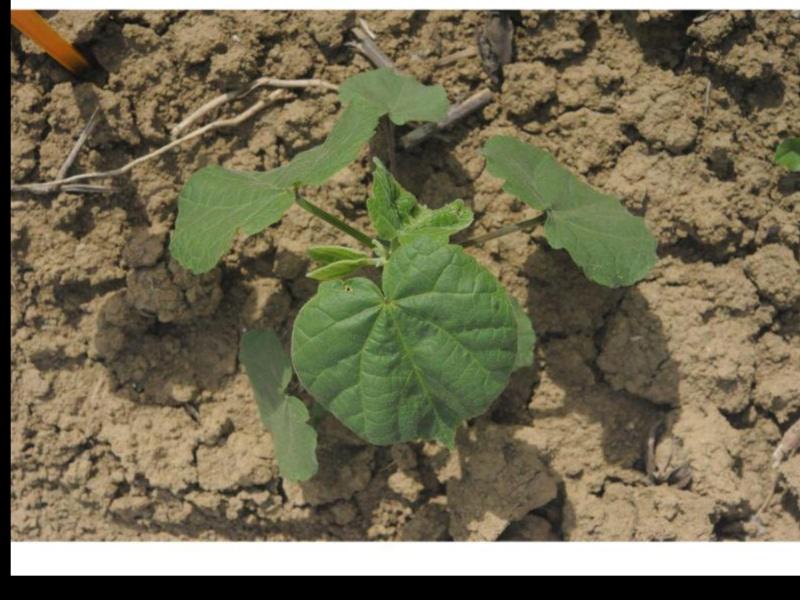velvet: (167, 65, 658, 483)
